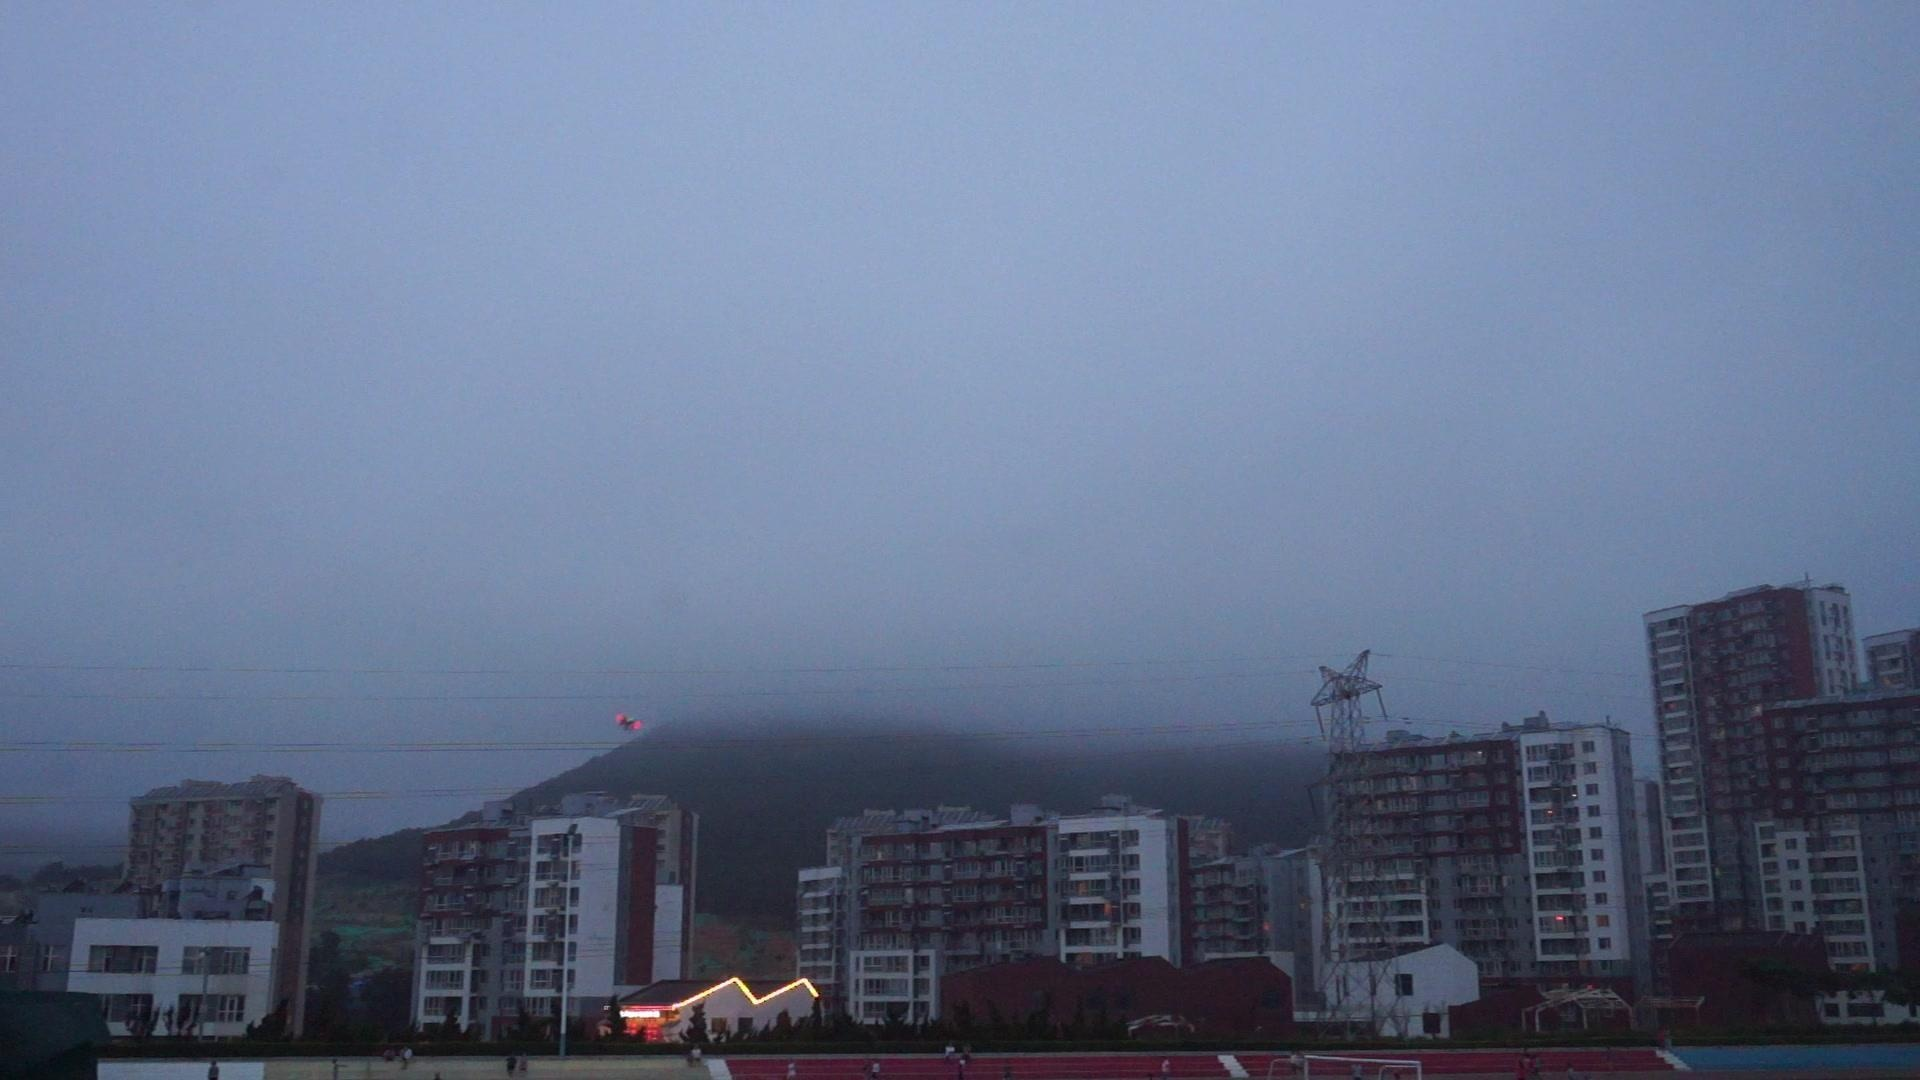UAV: (615, 715, 645, 731)
